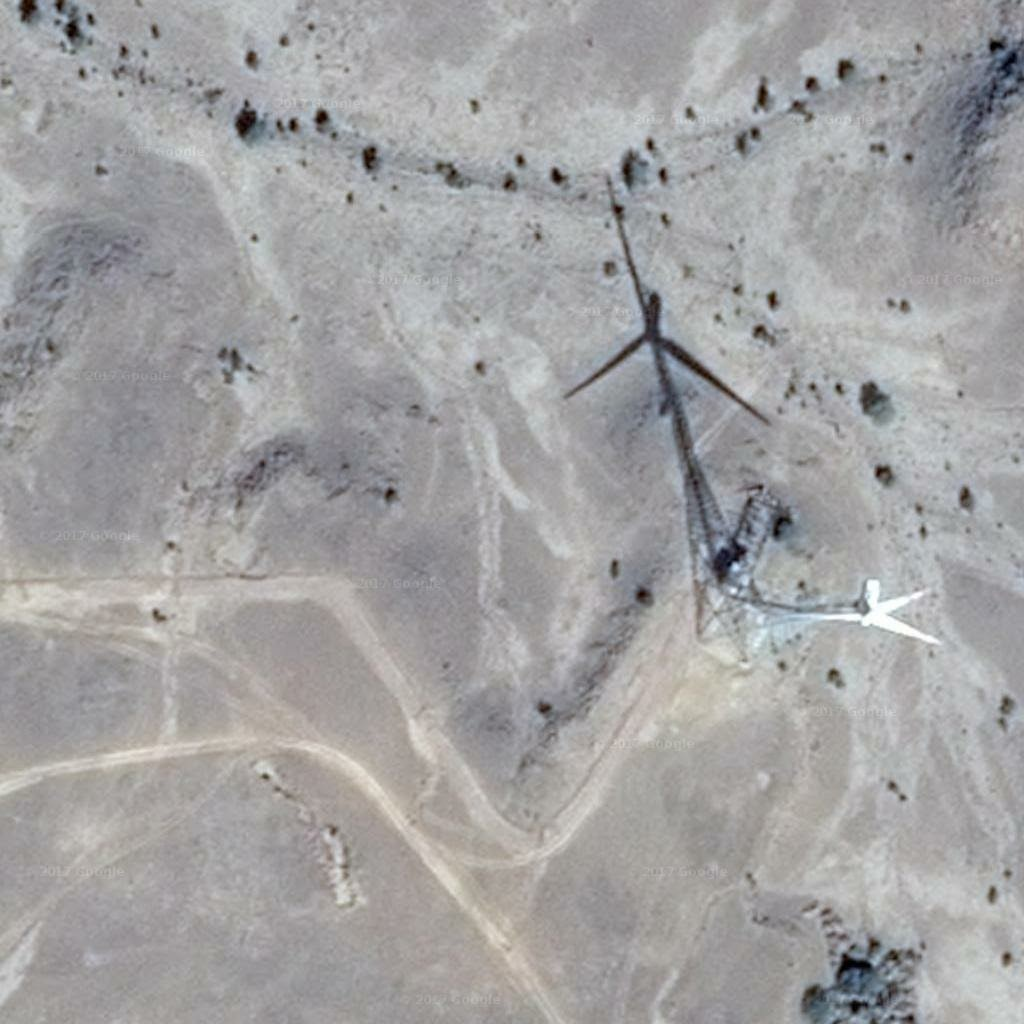Windmill: (570, 170, 746, 561)
